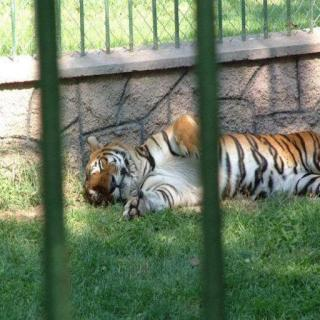Tiger: (78, 110, 320, 219)
